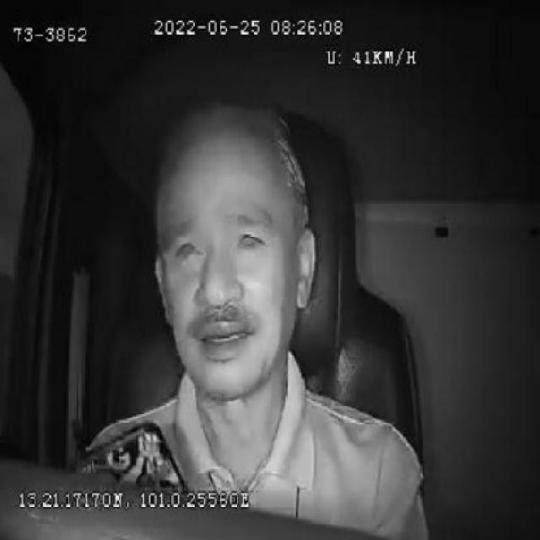smoking: (63, 437, 196, 493)
